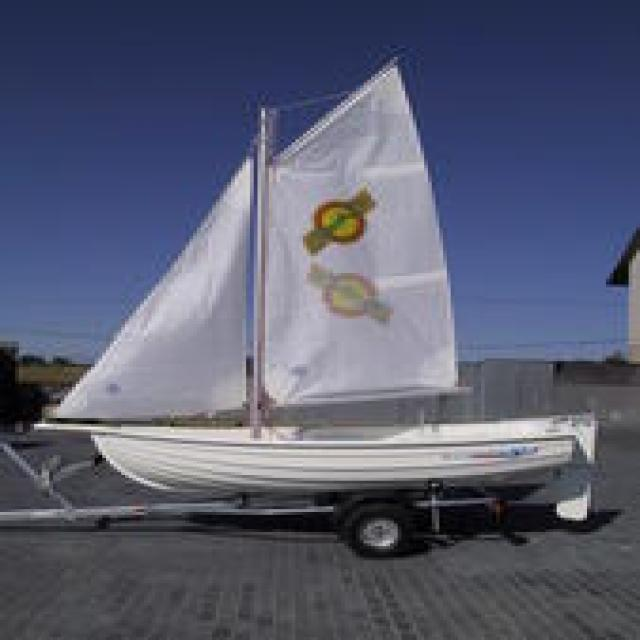Ship: (52, 54, 592, 514)
